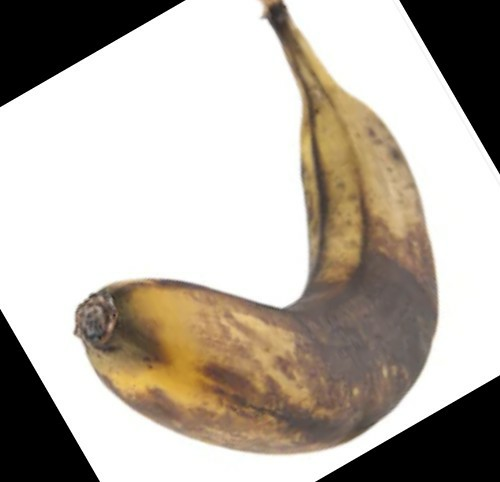rotten_banana: (80, 8, 437, 450)
